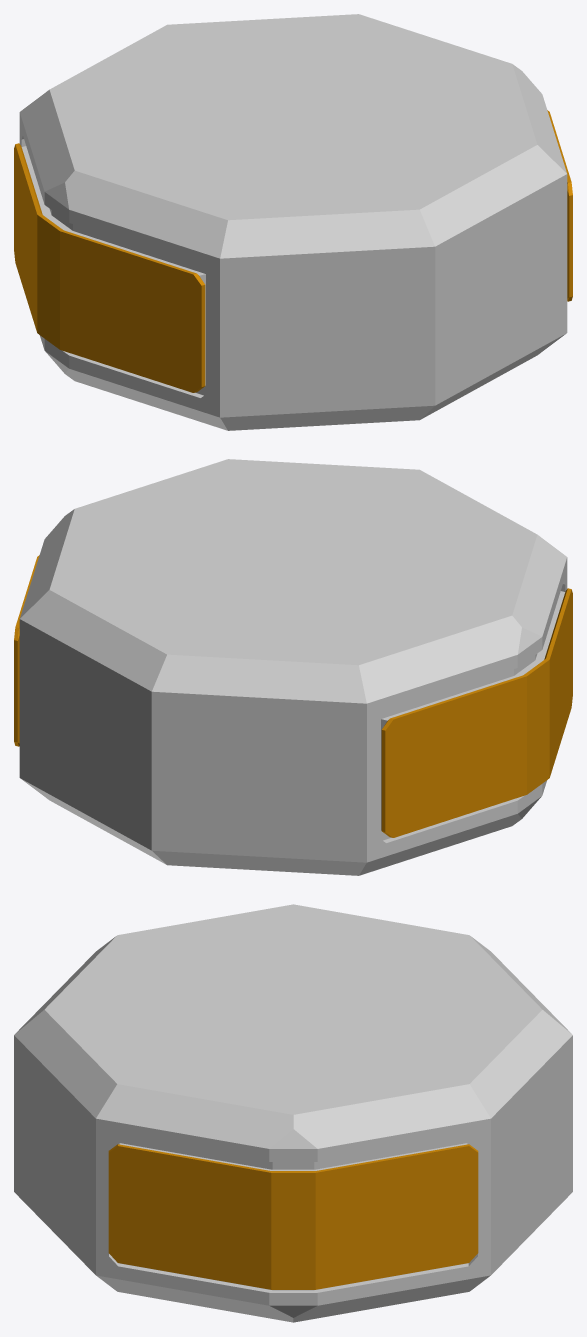
Rendered from CargoDroneModel.fbx.
The picture shows the model from 3 angles, top to bottom: view 1: azimuth 30°, elevation 25°; view 2: azimuth 150°, elevation 25°; view 3: azimuth 270°, elevation 25°; orthographic projection.
Parts seen in each view (by area): view 1: CargoDrone; view 2: CargoDrone; view 3: CargoDrone.
Part boxes in pixels (<box>): CargoDrone: <box>14,14,572,430</box>; CargoDrone: <box>14,459,572,875</box>; CargoDrone: <box>14,904,572,1322</box>.
Bounding box in the file's own units: 200 × 99.54 × 200.
